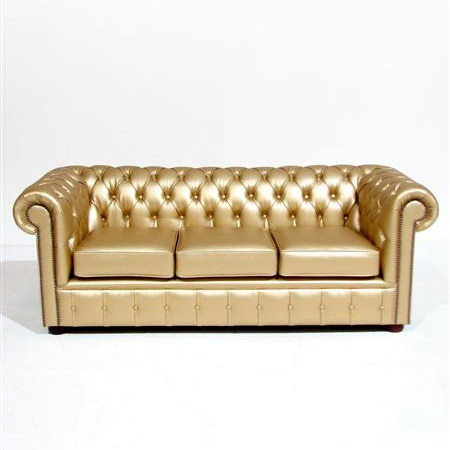chairs: (12, 164, 441, 338)
